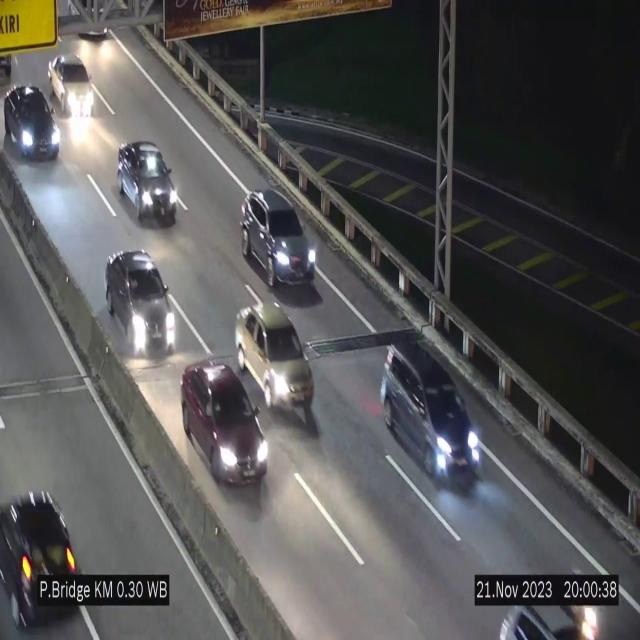Car: (0, 472, 97, 639), (381, 333, 483, 490), (184, 363, 270, 494), (234, 304, 314, 421), (106, 245, 178, 367), (240, 189, 318, 290), (118, 141, 178, 225), (4, 86, 62, 169), (49, 52, 99, 121)
